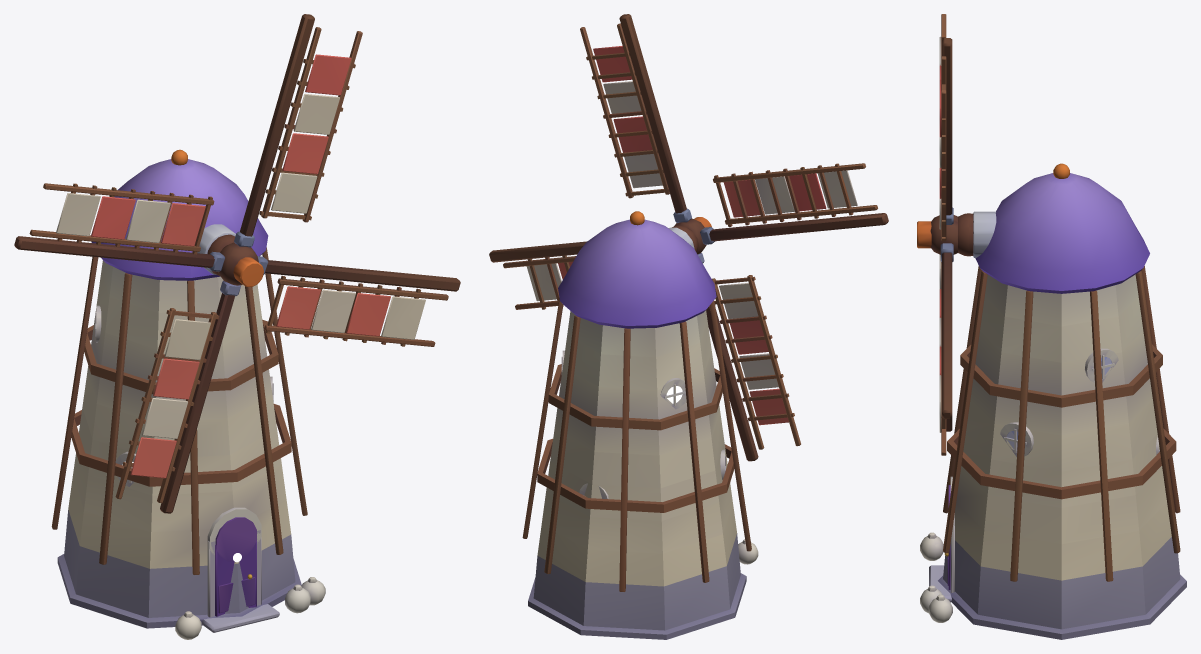
Rendered from common_town_windmill.glb.
3 renders of one model, left to right at view 1: azimuth 30°, elevation 25°; view 2: azimuth 150°, elevation 25°; view 3: azimuth 270°, elevation 25°, orthographic. The views are drawn at different scales.
Parts seen in each view (by area): view 1: common_town_windmill, windmill_blades; view 2: common_town_windmill, windmill_blades; view 3: common_town_windmill, windmill_blades.
Part boxes in pixels (x1,y1,x2,y2): common_town_windmill: (51,149,325,639); windmill_blades: (14,14,460,513); common_town_windmill: (522,211,758,639); windmill_blades: (489,14,888,461); common_town_windmill: (920,163,1186,639); windmill_blades: (917,14,957,455).
Bounding box in the file's own units: 11.75 × 14.88 × 6.25.
